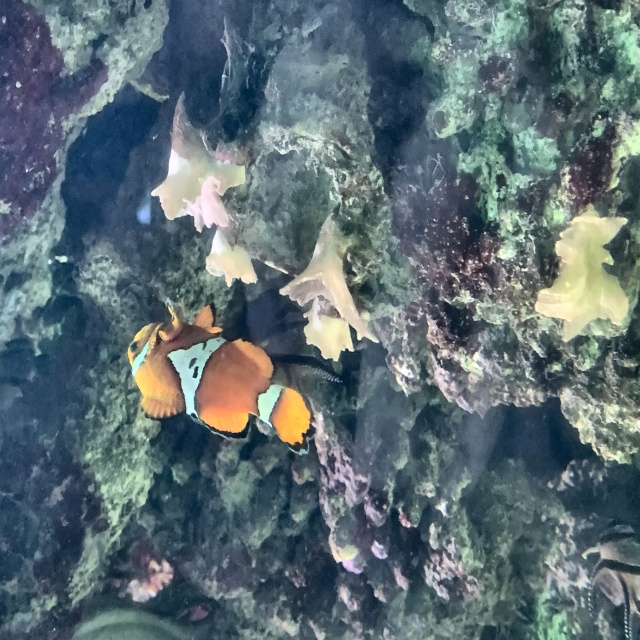fish: (125, 299, 319, 455)
